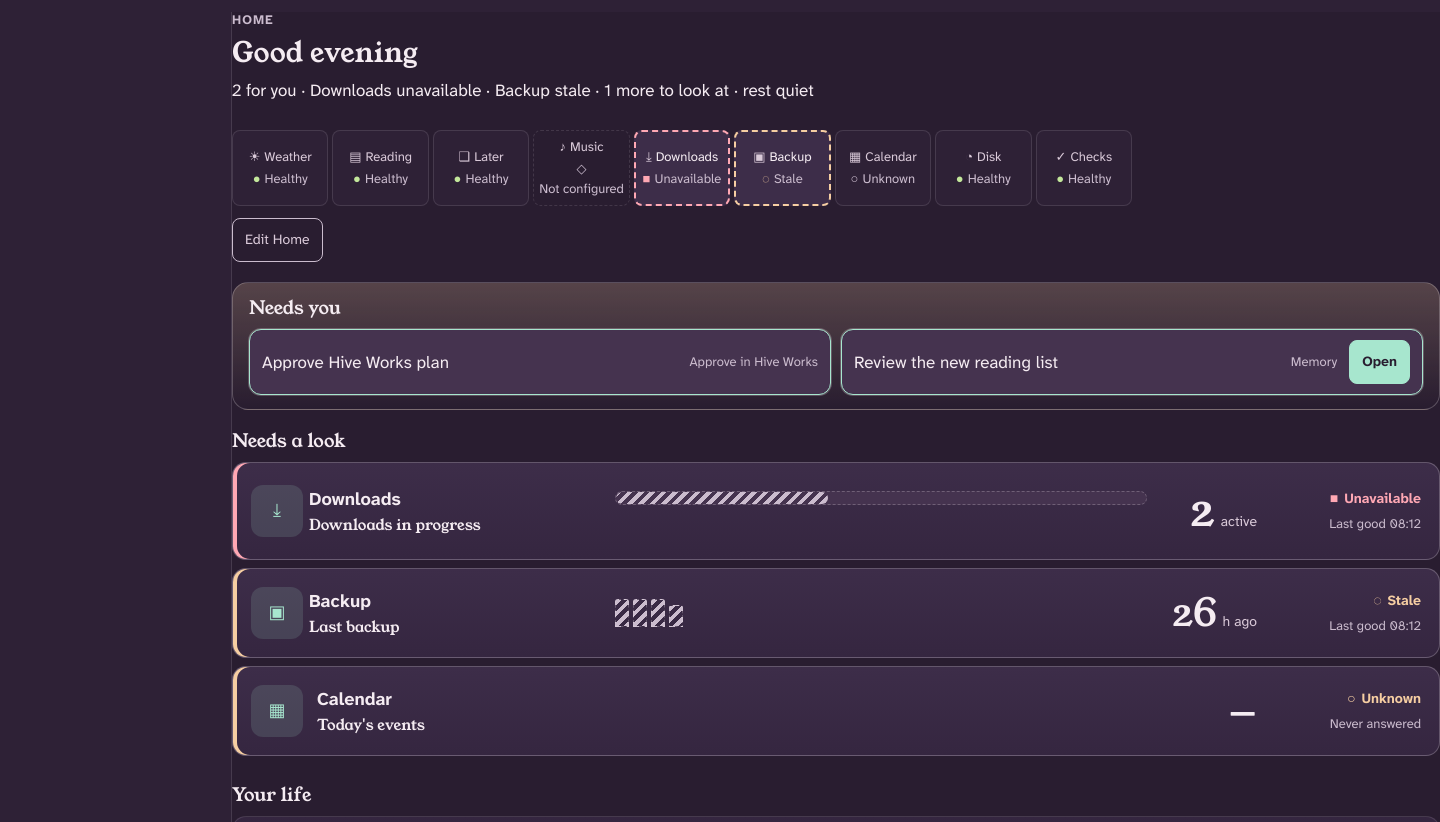
Scenario: Edit Home › is explicit and secondary: nothing to arrange until Edit Home is pressed
This screenshot has width=1440, height=822.
Click the button "Edit Home" at (277, 240), box [232,218,322,262]
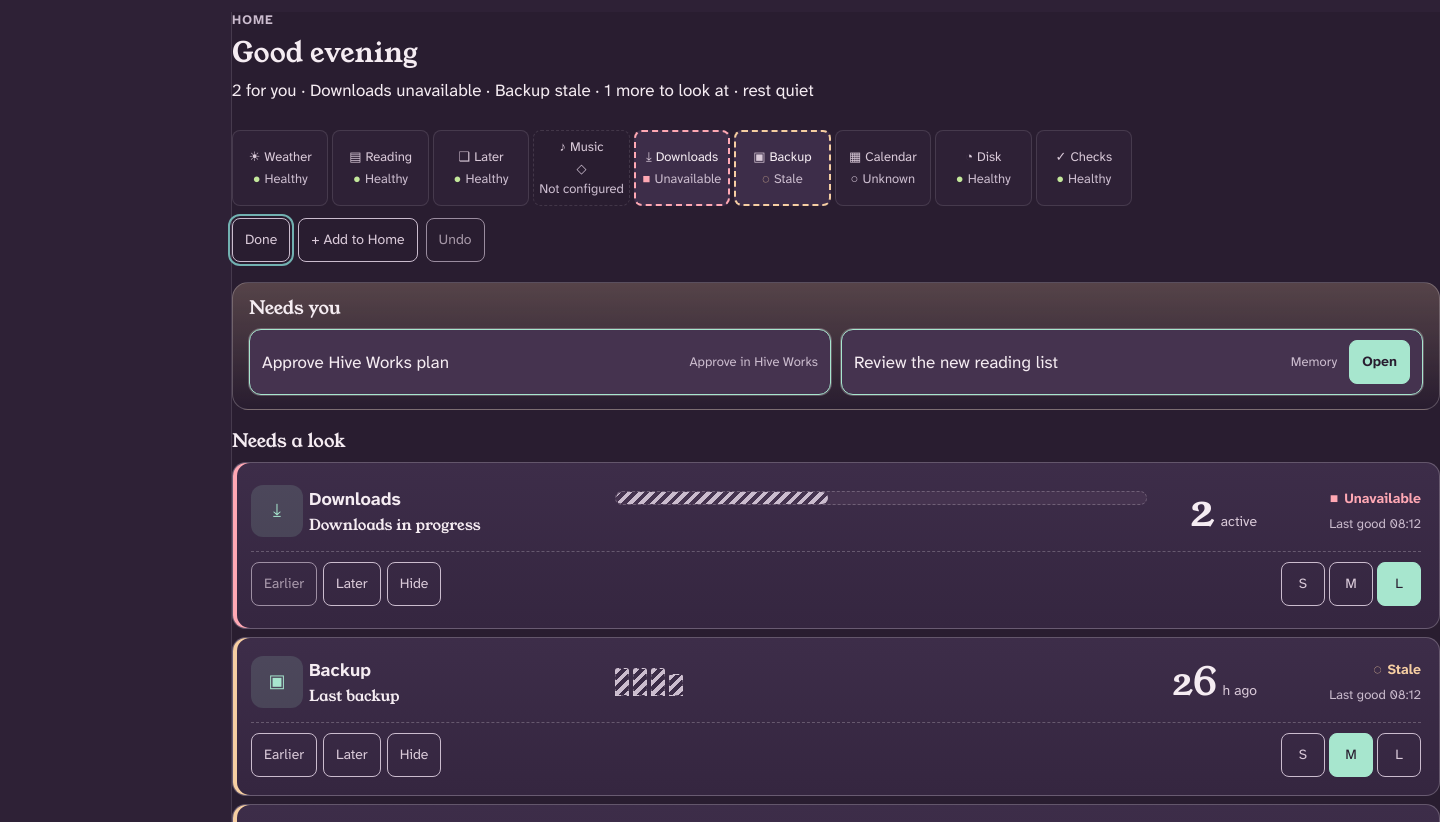
Check: the button "+ Add to Home" is shown, box [298,218,418,262]
